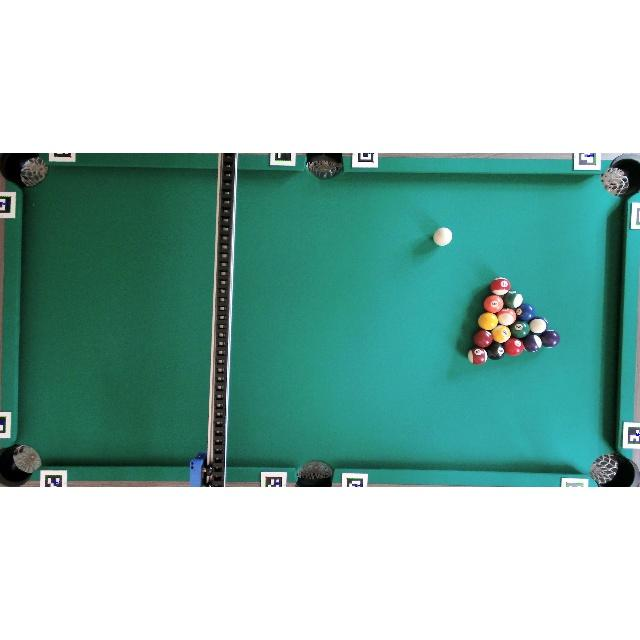cue ball: (434, 227, 453, 246)
other: (490, 277, 511, 296), (516, 303, 536, 322), (510, 320, 530, 339), (540, 330, 561, 348), (523, 333, 542, 352), (473, 330, 493, 348), (504, 338, 524, 356), (484, 295, 504, 313), (478, 313, 498, 331), (491, 325, 511, 343), (504, 291, 524, 309), (498, 308, 516, 326), (529, 317, 548, 334), (468, 348, 488, 364), (487, 343, 505, 359)
